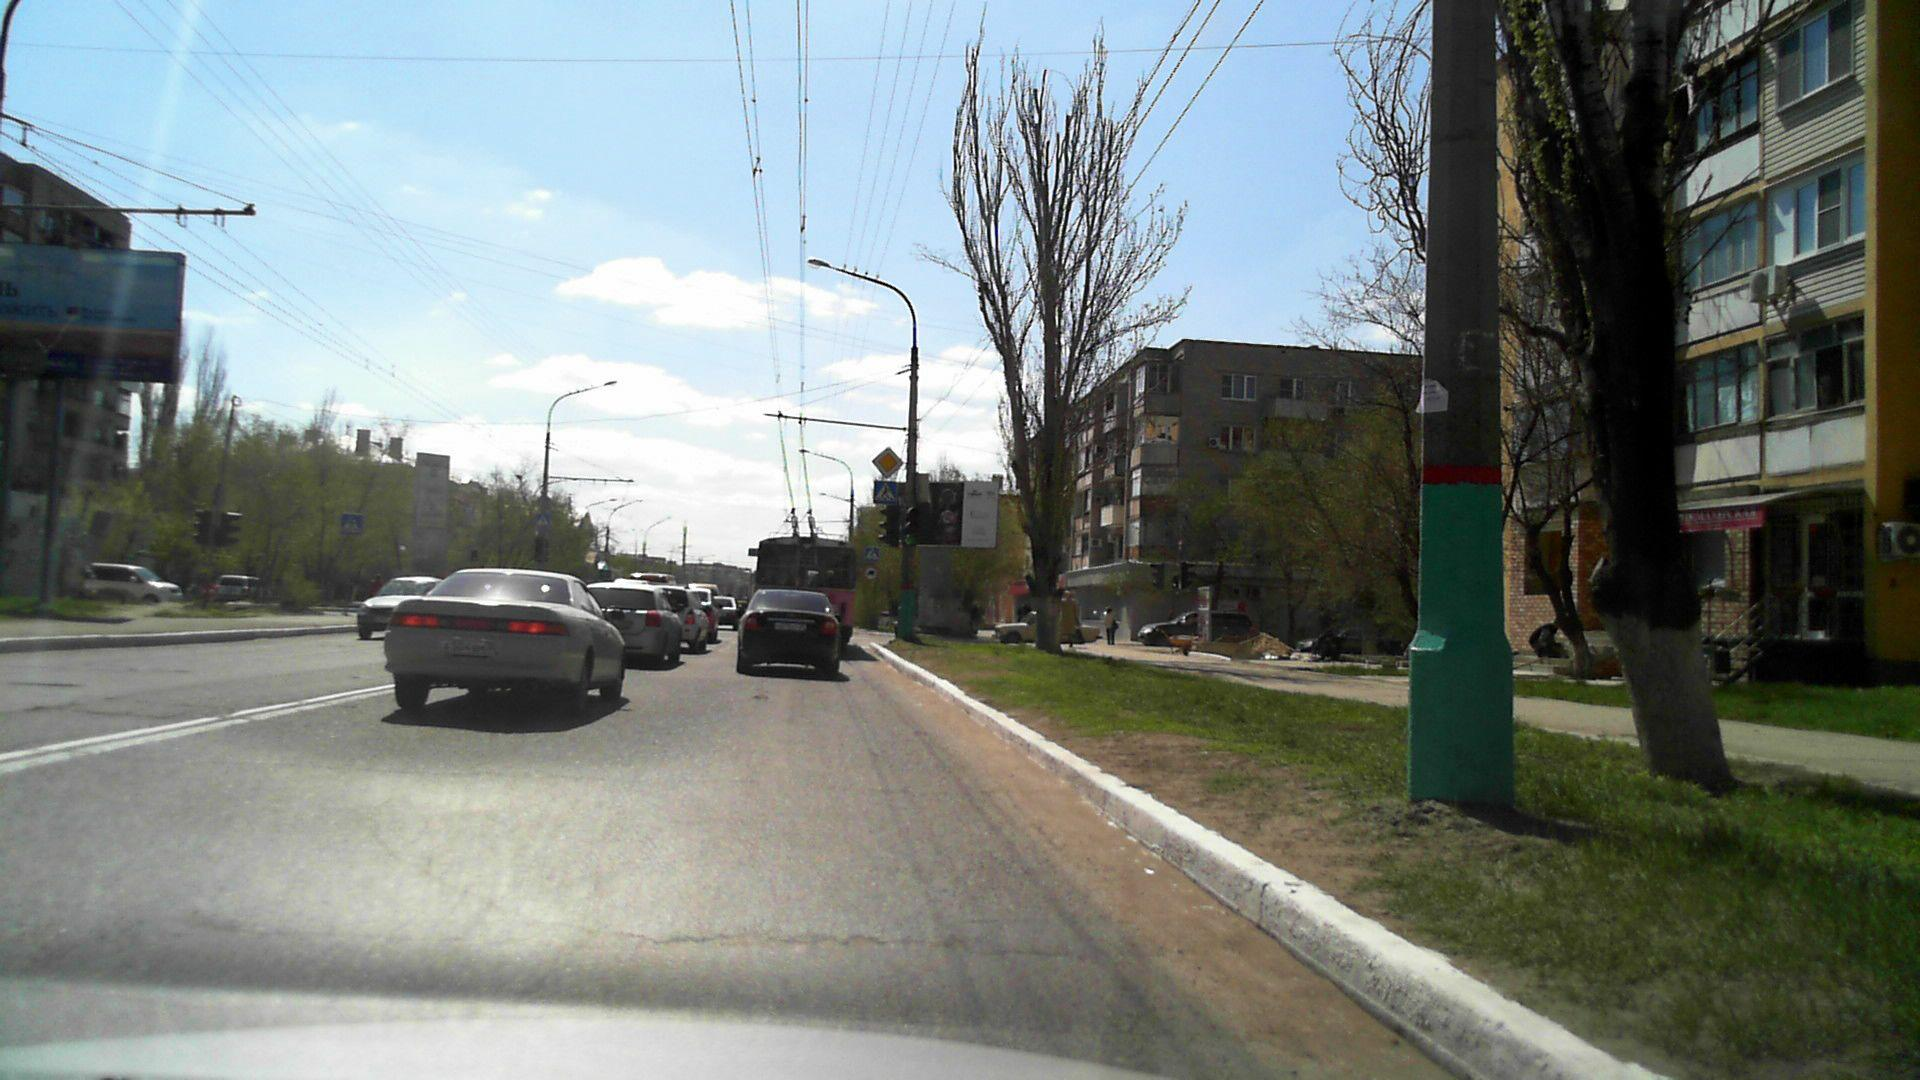2_1: (871, 444, 903, 477)
5_19_1: (872, 480, 898, 503)
